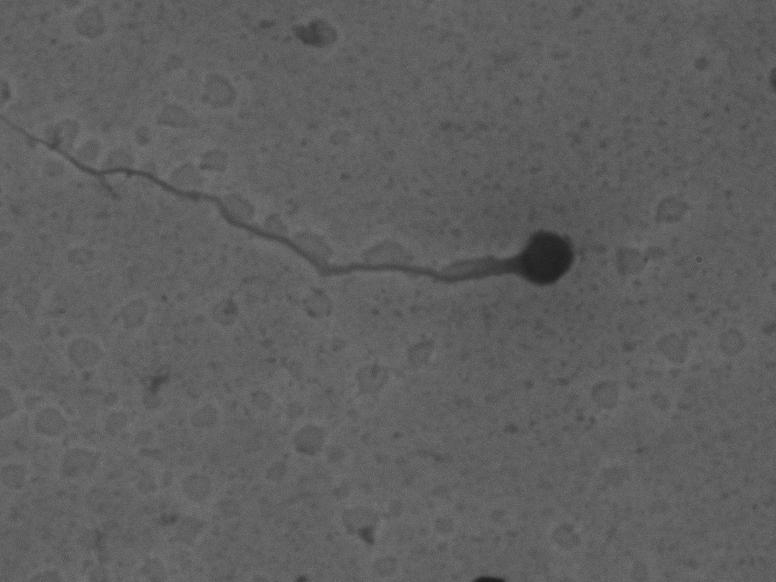Abnormal: (35, 131, 603, 304)
